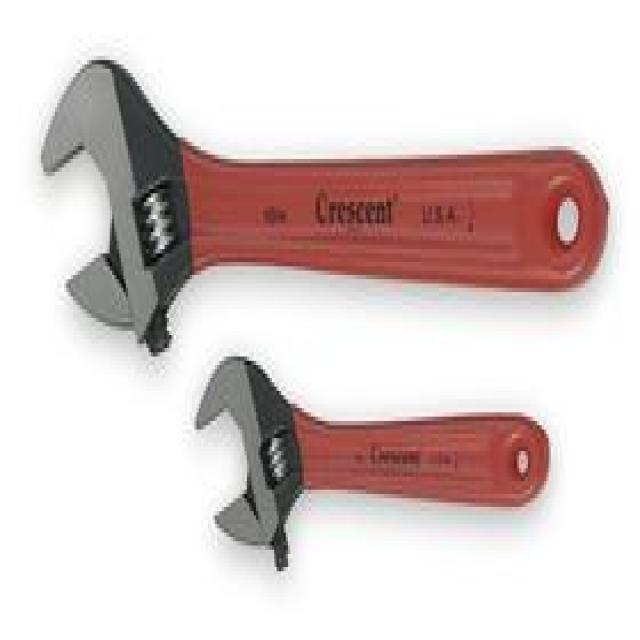wrench: (37, 39, 622, 368), (180, 347, 570, 578)
